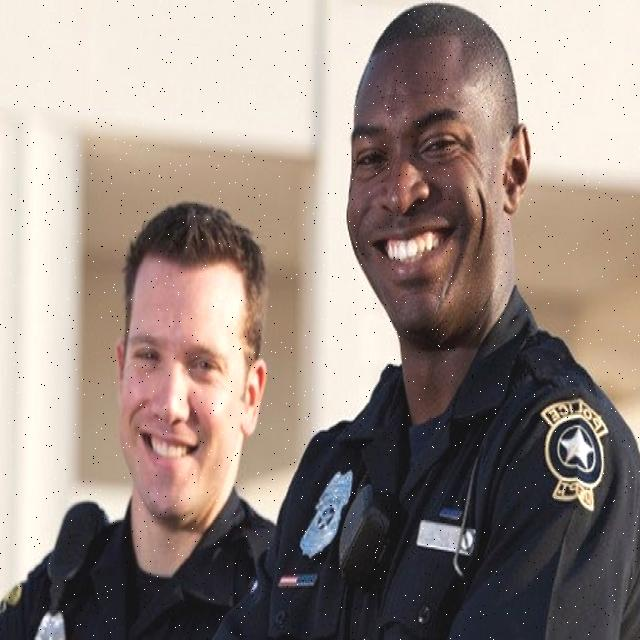police: (288, 0, 604, 640), (3, 174, 292, 640)
